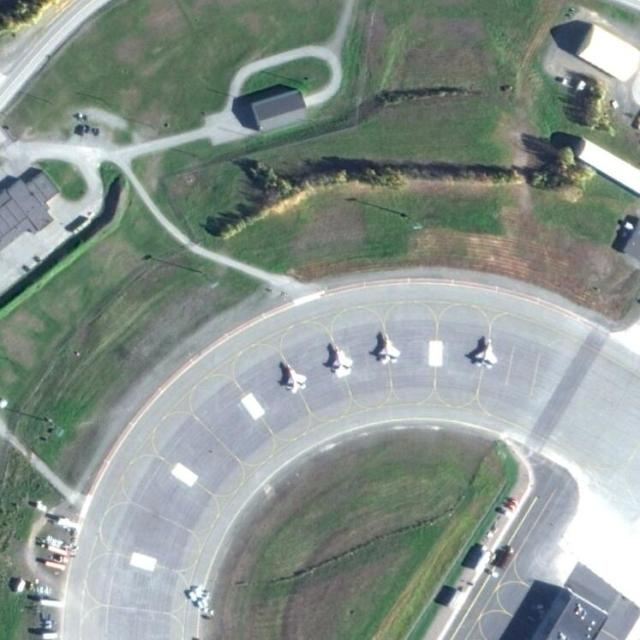fighter jet: (323, 340, 354, 378), (470, 335, 500, 370), (279, 360, 307, 392), (375, 330, 401, 364)
